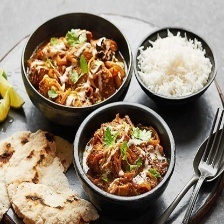rice: (136, 30, 213, 99)
